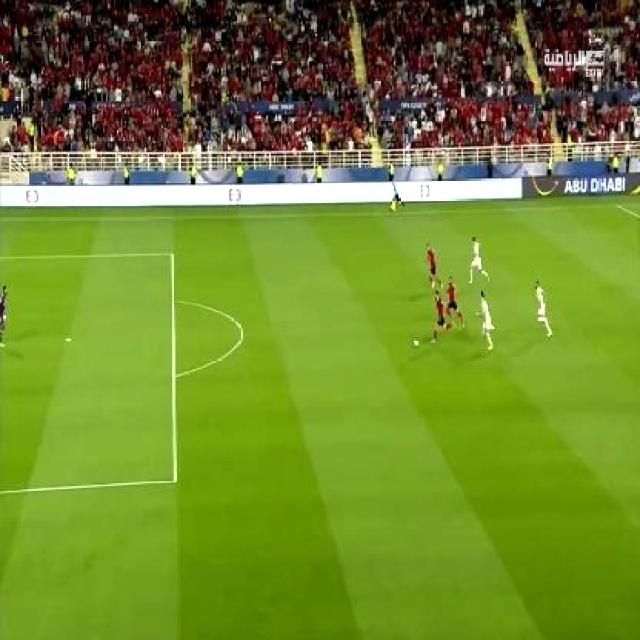bigarea_bottom_inner: (163, 466, 185, 491)
bigarea_top_inner: (164, 246, 178, 262)
bottom_arc_area_intersection: (166, 364, 182, 384)
top_arc_area_intersection: (165, 289, 180, 308)
